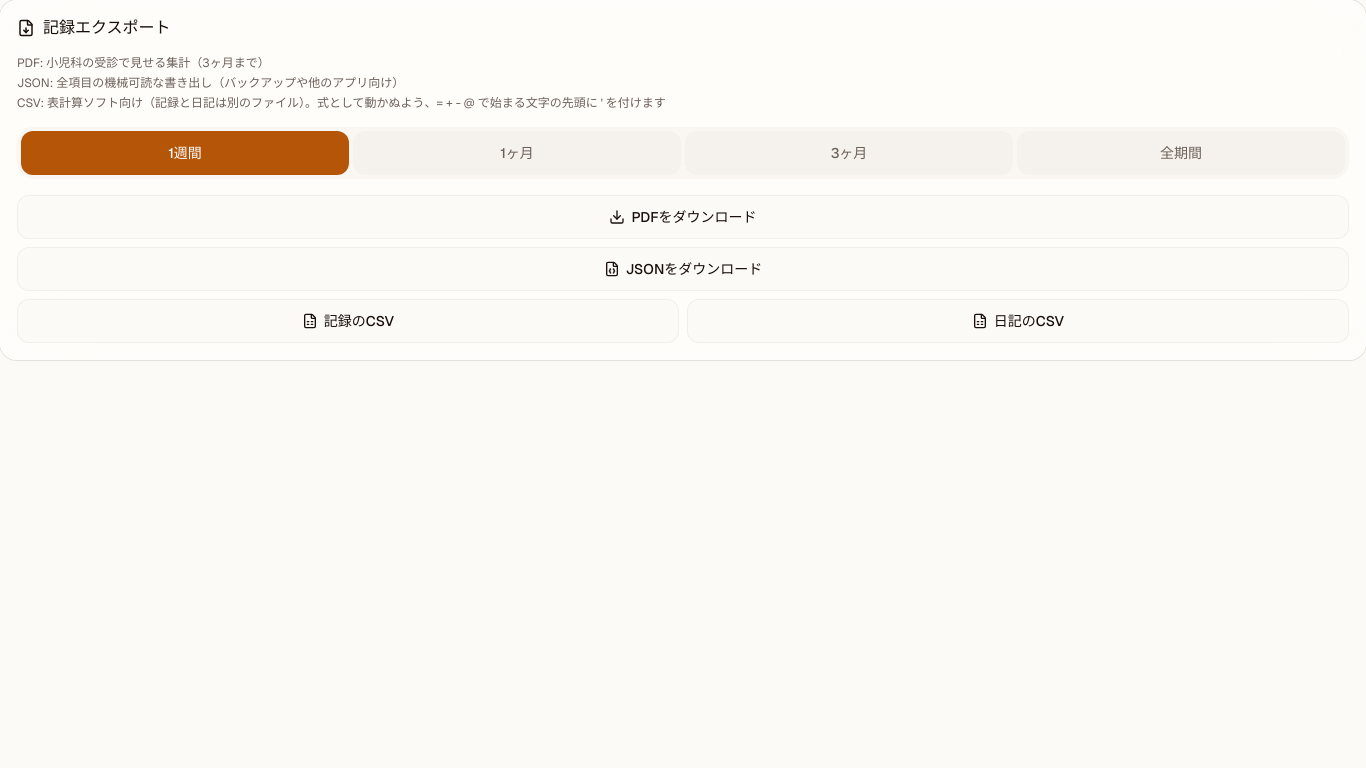
ExportCard: 分割回収（続きを書き出す） › ⭐ 一部の書き出しは「一部」と伝え、続きは最初の範囲と続きの位置を固定して叩く。最後の部で終わりを示す
Click the button "全期間" at (1181, 153), box [1017,131,1345,175]
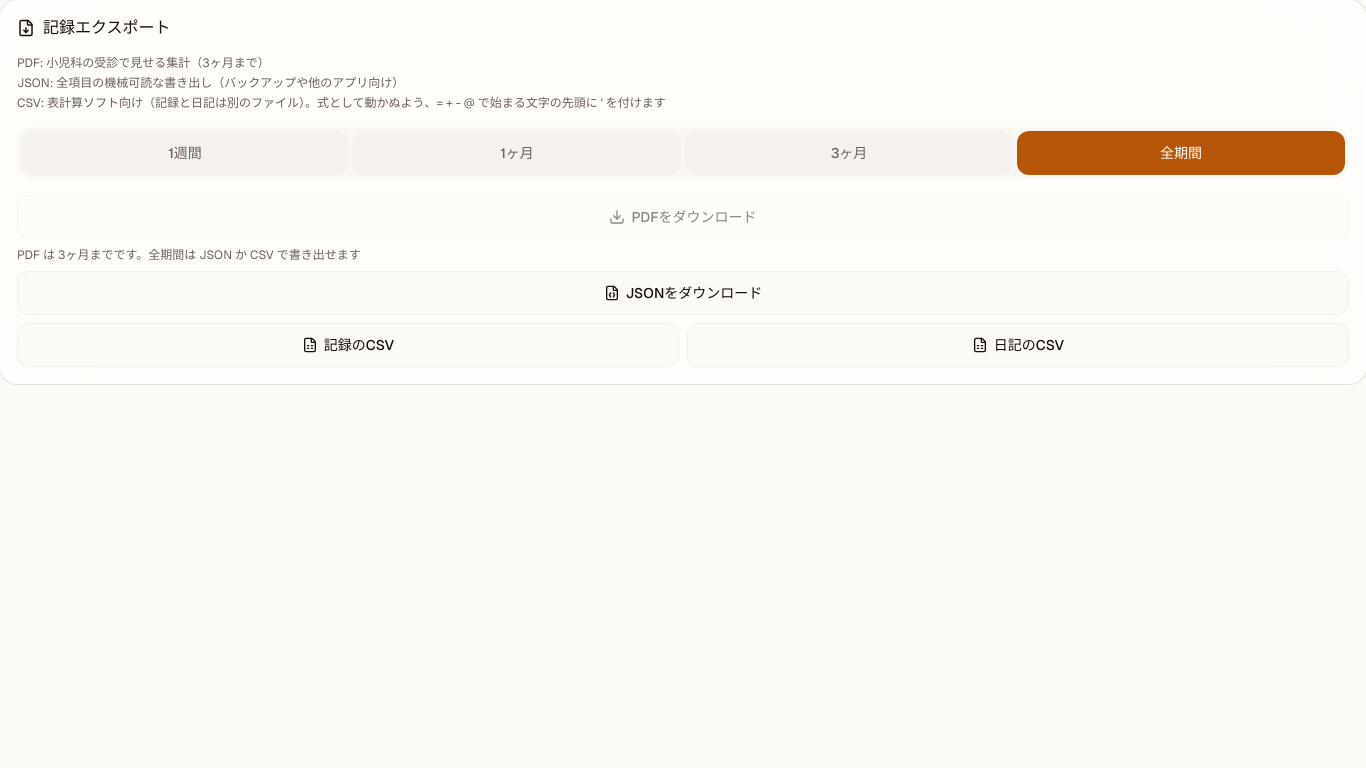
Click the button "JSONをダウンロード" at (683, 293), box [17,271,1349,315]
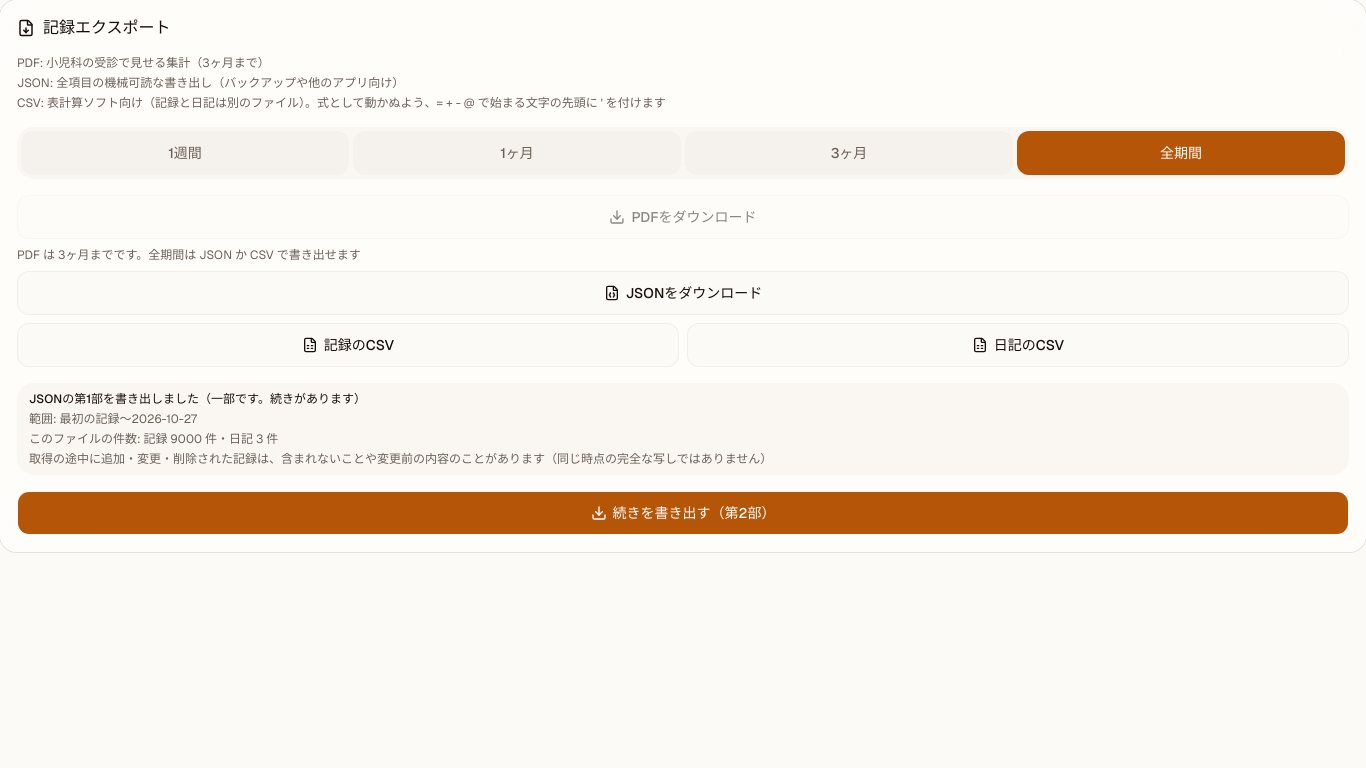
Expected: the message with test id "export-outcome" shows "第1部を書き出しました（一部です。続きがあります）", [29,391,366,407]
Click the button "続きを書き出す（第2部）" at (683, 513), box [17,491,1349,535]
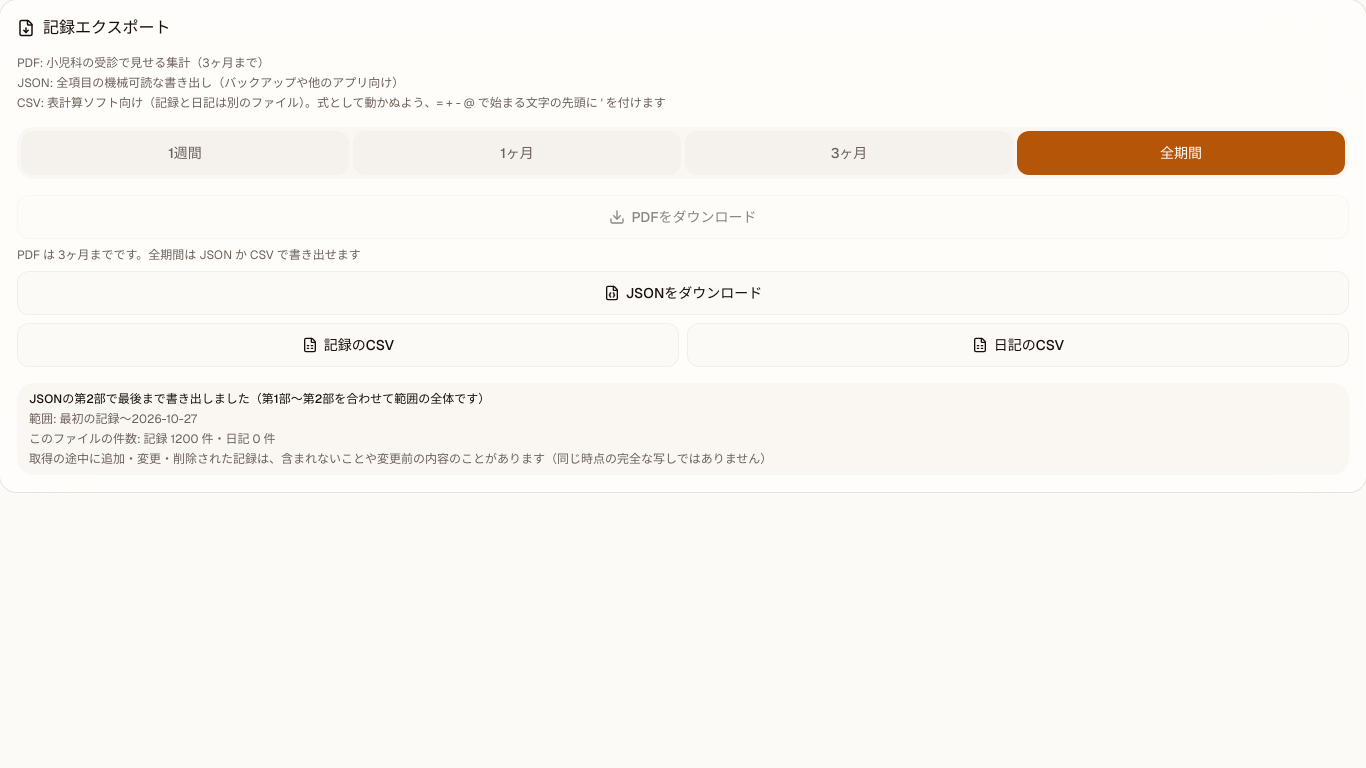
Expected: the message with test id "export-outcome" shows "第1部〜第2部を合わせて範囲の全体です", [29,391,490,407]
Expected: the button "続きを書き出す" is gone
